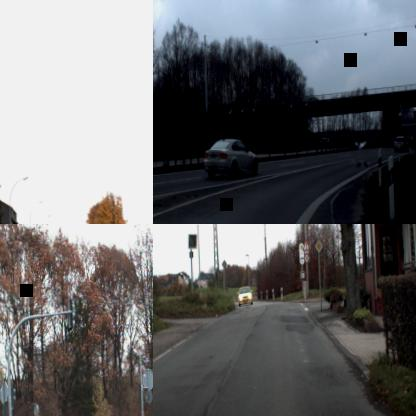DANGER: (302, 237, 310, 252)
give way: (412, 109, 416, 122)
priority road: (314, 237, 323, 254)
speed limit 30: (302, 253, 310, 263)
